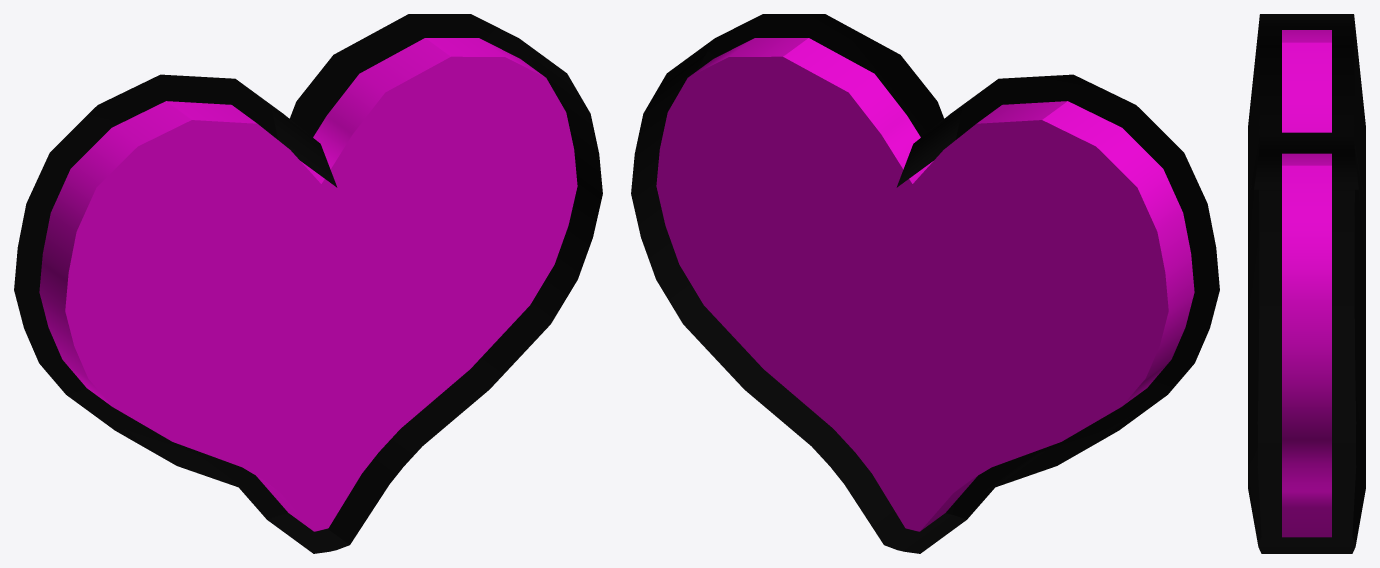
Rendered from Heart.fbx.
3 renders of one model, left to right at view 1: azimuth 30°, elevation 25°; view 2: azimuth 150°, elevation 25°; view 3: azimuth 270°, elevation 25°, orthographic. The views are drawn at different scales.
Parts seen in each view (by area): view 1: polySurface436; view 2: polySurface436; view 3: polySurface436.
Boxes of the visible parts, x1,y1,x2,y2 form: polySurface436: (14,14,602,553); polySurface436: (631,14,1219,553); polySurface436: (1248,14,1365,553).
Size of the model in its own units: 1.56 by 1.3 by 0.3034.
